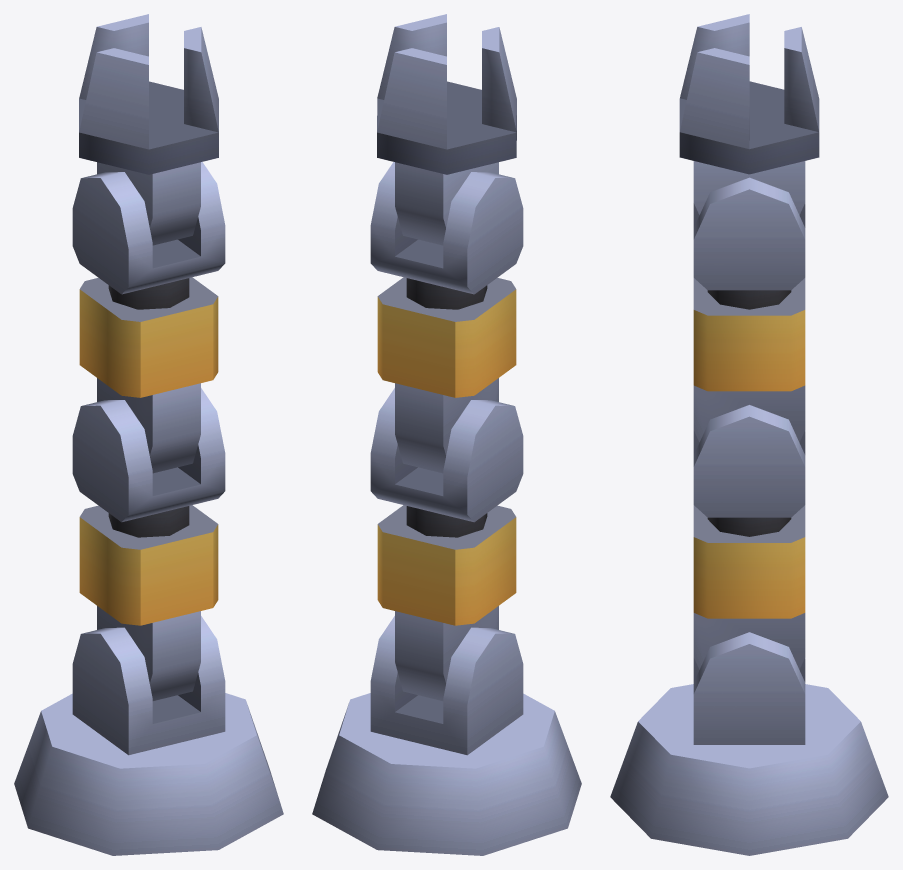
Rendered from robot-arm-b-transformed.glb.
3 views of the same model, side by side, from view 1: azimuth 30°, elevation 25°; view 2: azimuth 150°, elevation 25°; view 3: azimuth 270°, elevation 25° (orthographic).
Visible parts, largest first — view 1: robot-arm-b; view 2: robot-arm-b; view 3: robot-arm-b.
Boxes of the visible parts, <box> form: robot-arm-b: <box>14,14,283,855</box>; robot-arm-b: <box>312,14,581,855</box>; robot-arm-b: <box>610,14,888,855</box>.
Bounding box in the file's own units: 1 × 3 × 1.
Materials: 1 (1 with a texture image).
